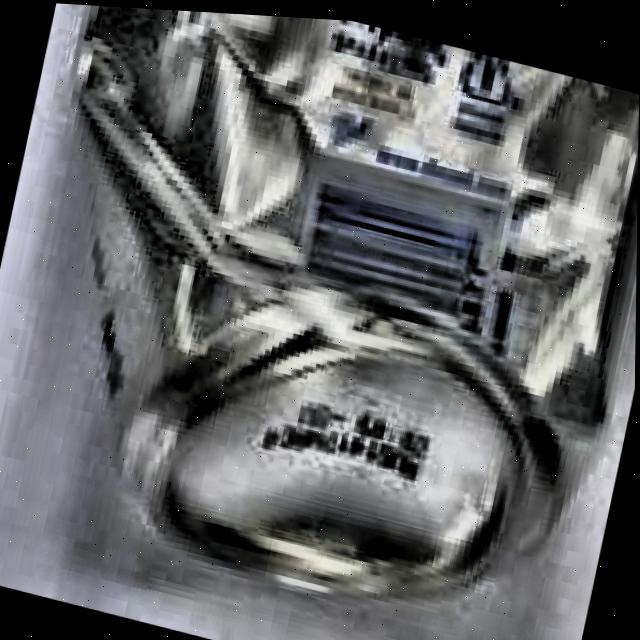metal: (67, 4, 639, 604)
